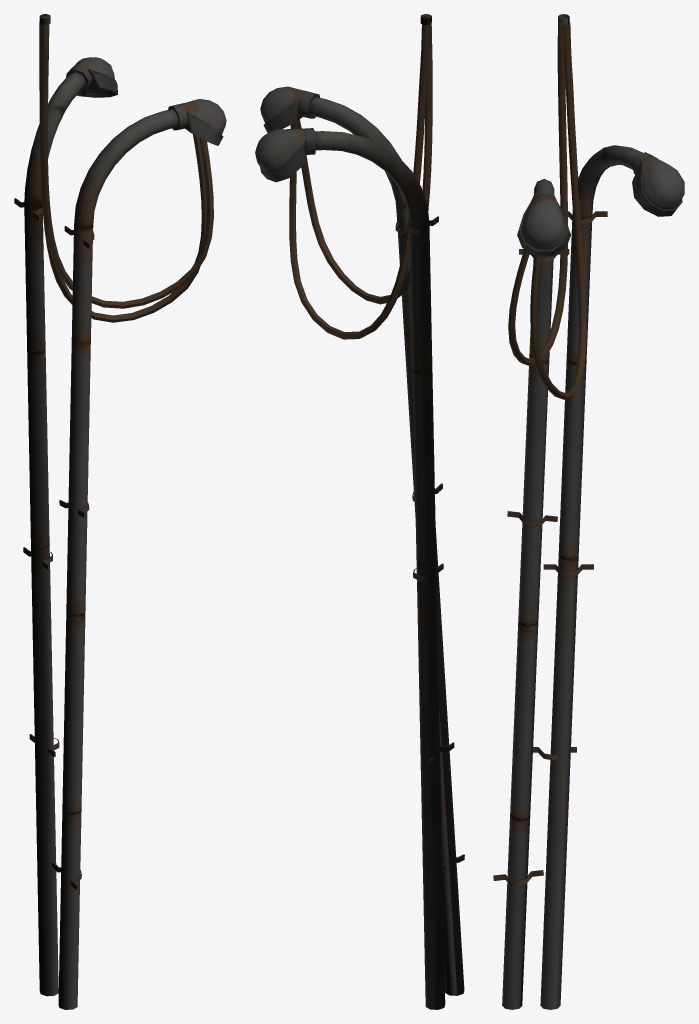
3 views of the same model, side by side, from view 1: azimuth 30°, elevation 25°; view 2: azimuth 150°, elevation 25°; view 3: azimuth 270°, elevation 25° (orthographic). The views are drawn at different scales.
Visible parts, largest first — view 1: body0_model0_lod0_mesh0; view 2: body0_model0_lod0_mesh0; view 3: body0_model0_lod0_mesh0.
Boxes of the visible parts, x1,y1,x2,y2 form: body0_model0_lod0_mesh0: [14, 14, 226, 1009]; body0_model0_lod0_mesh0: [255, 14, 464, 1009]; body0_model0_lod0_mesh0: [493, 14, 684, 1009].
Size of the model in its own units: 41.94 by 217 by 37.97.
Materials: 1 (1 with a texture image).
